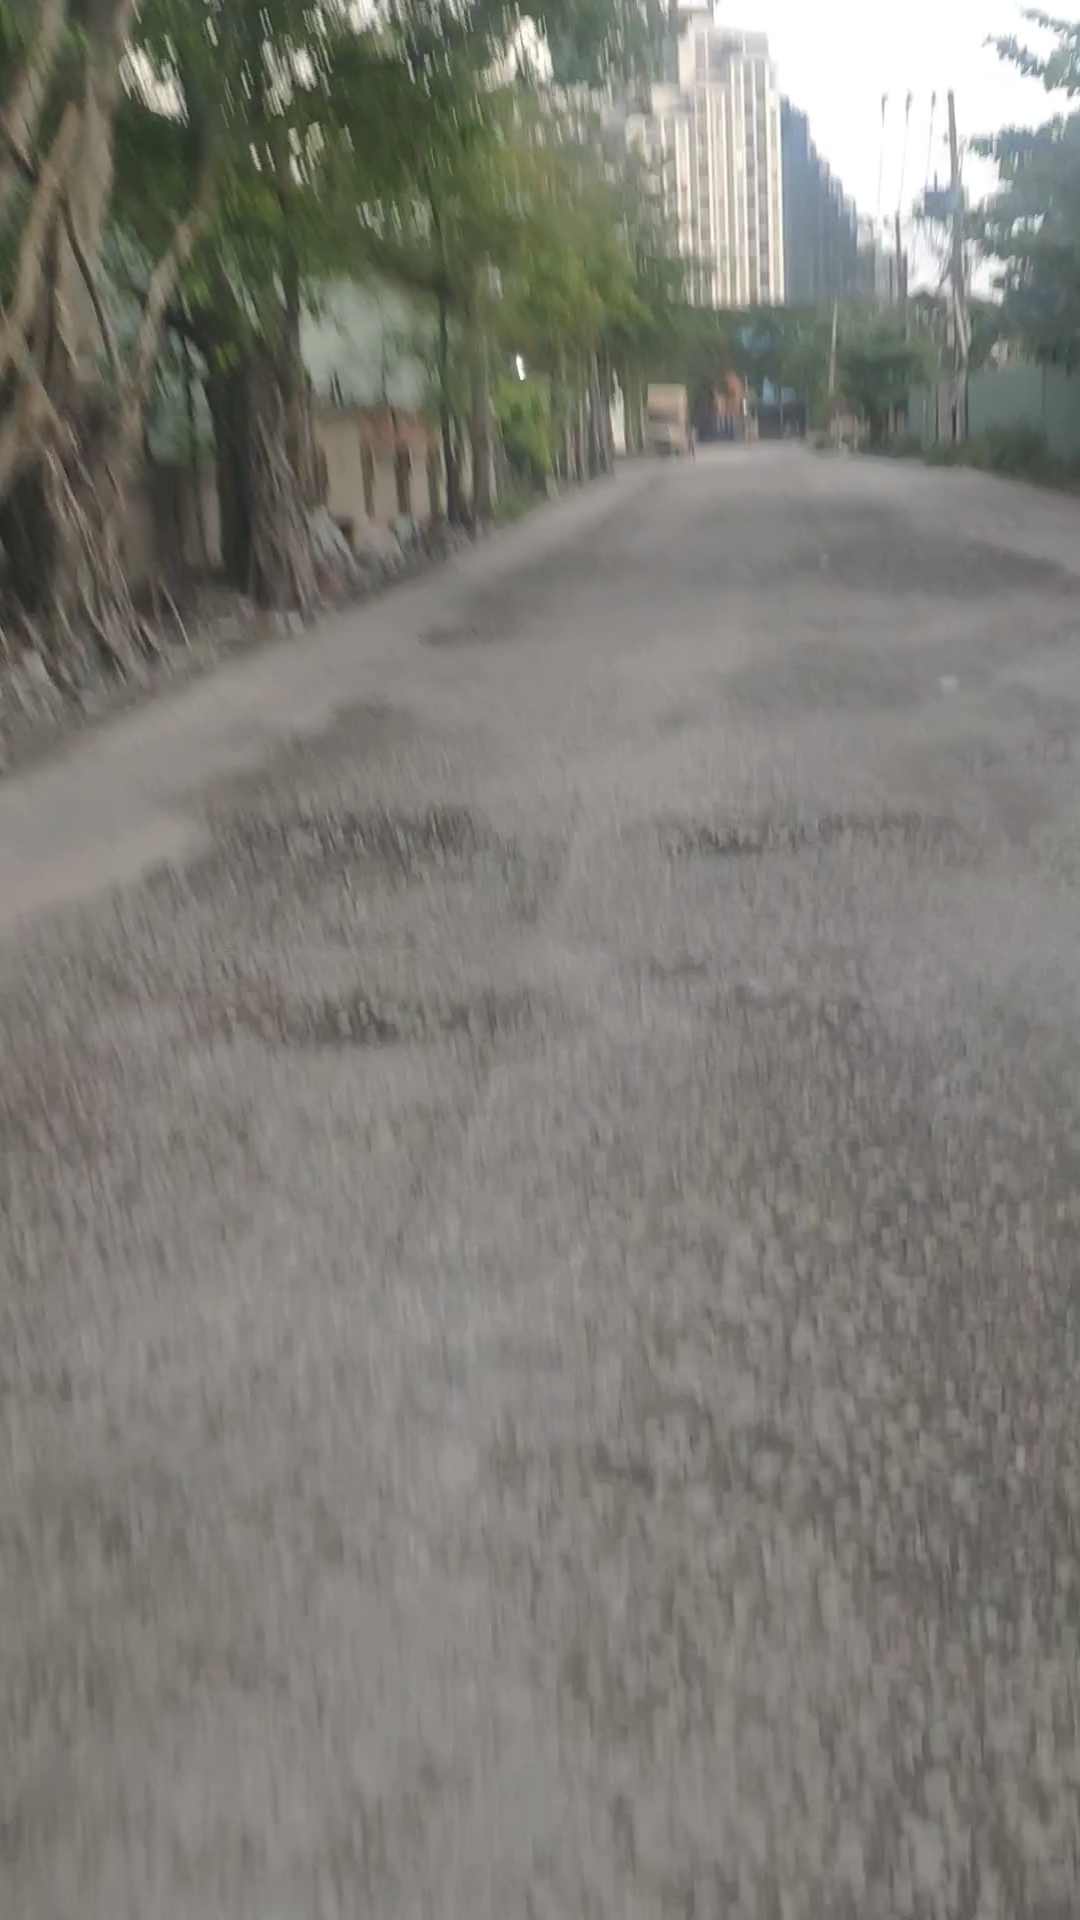hole: (194, 783, 576, 909), (232, 982, 578, 1047), (650, 812, 1000, 868)
